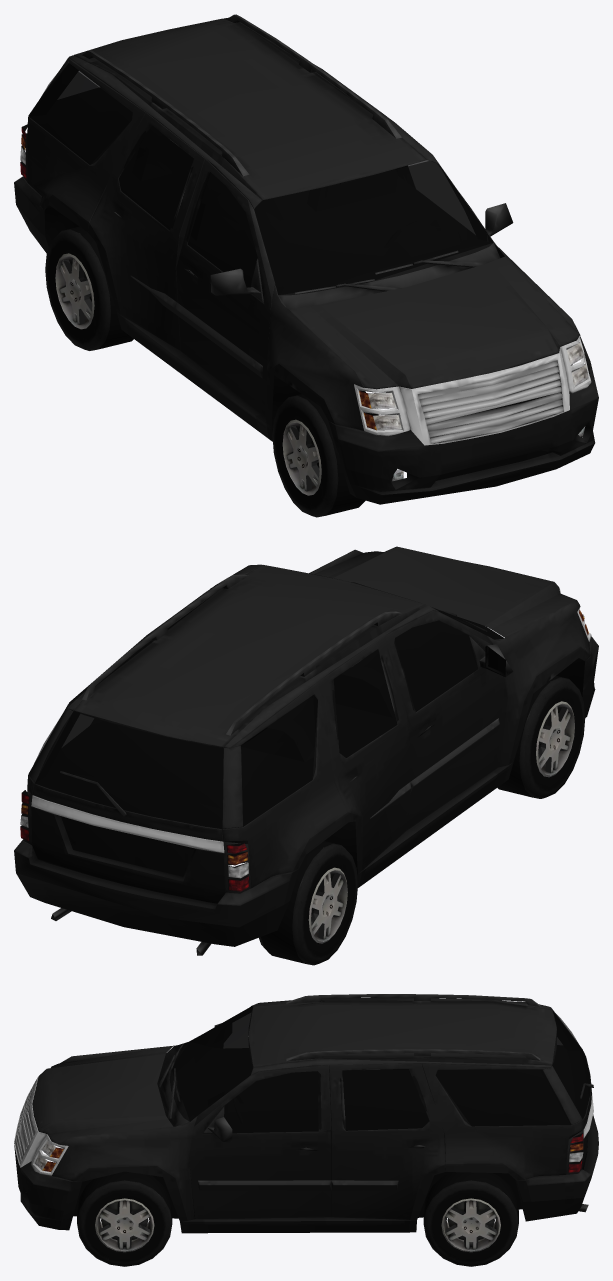
File: suv_lo.glb
3 views of the same model, one above another, from view 1: azimuth 30°, elevation 25°; view 2: azimuth 150°, elevation 25°; view 3: azimuth 270°, elevation 25° (orthographic). The views are drawn at different scales.
Visible parts, largest first — view 1: body, wheel_fr, wheel_rr; view 2: body, wheel_rr, wheel_fr; view 3: body, wheel_rl, wheel_fl.
Boxes of the visible parts, bbox=[...] form: body: bbox=[14, 14, 598, 504]; wheel_fr: bbox=[272, 394, 365, 517]; wheel_rr: bbox=[45, 226, 133, 350]; body: bbox=[14, 546, 598, 955]; wheel_rr: bbox=[259, 841, 357, 965]; wheel_fr: bbox=[497, 675, 585, 798]; body: bbox=[14, 994, 598, 1233]; wheel_rl: bbox=[423, 1172, 518, 1266]; wheel_fl: bbox=[77, 1171, 172, 1266].
Bounding box in the file's own units: 2.2 × 1.84 × 4.9.
4 materials, 3 textured.
